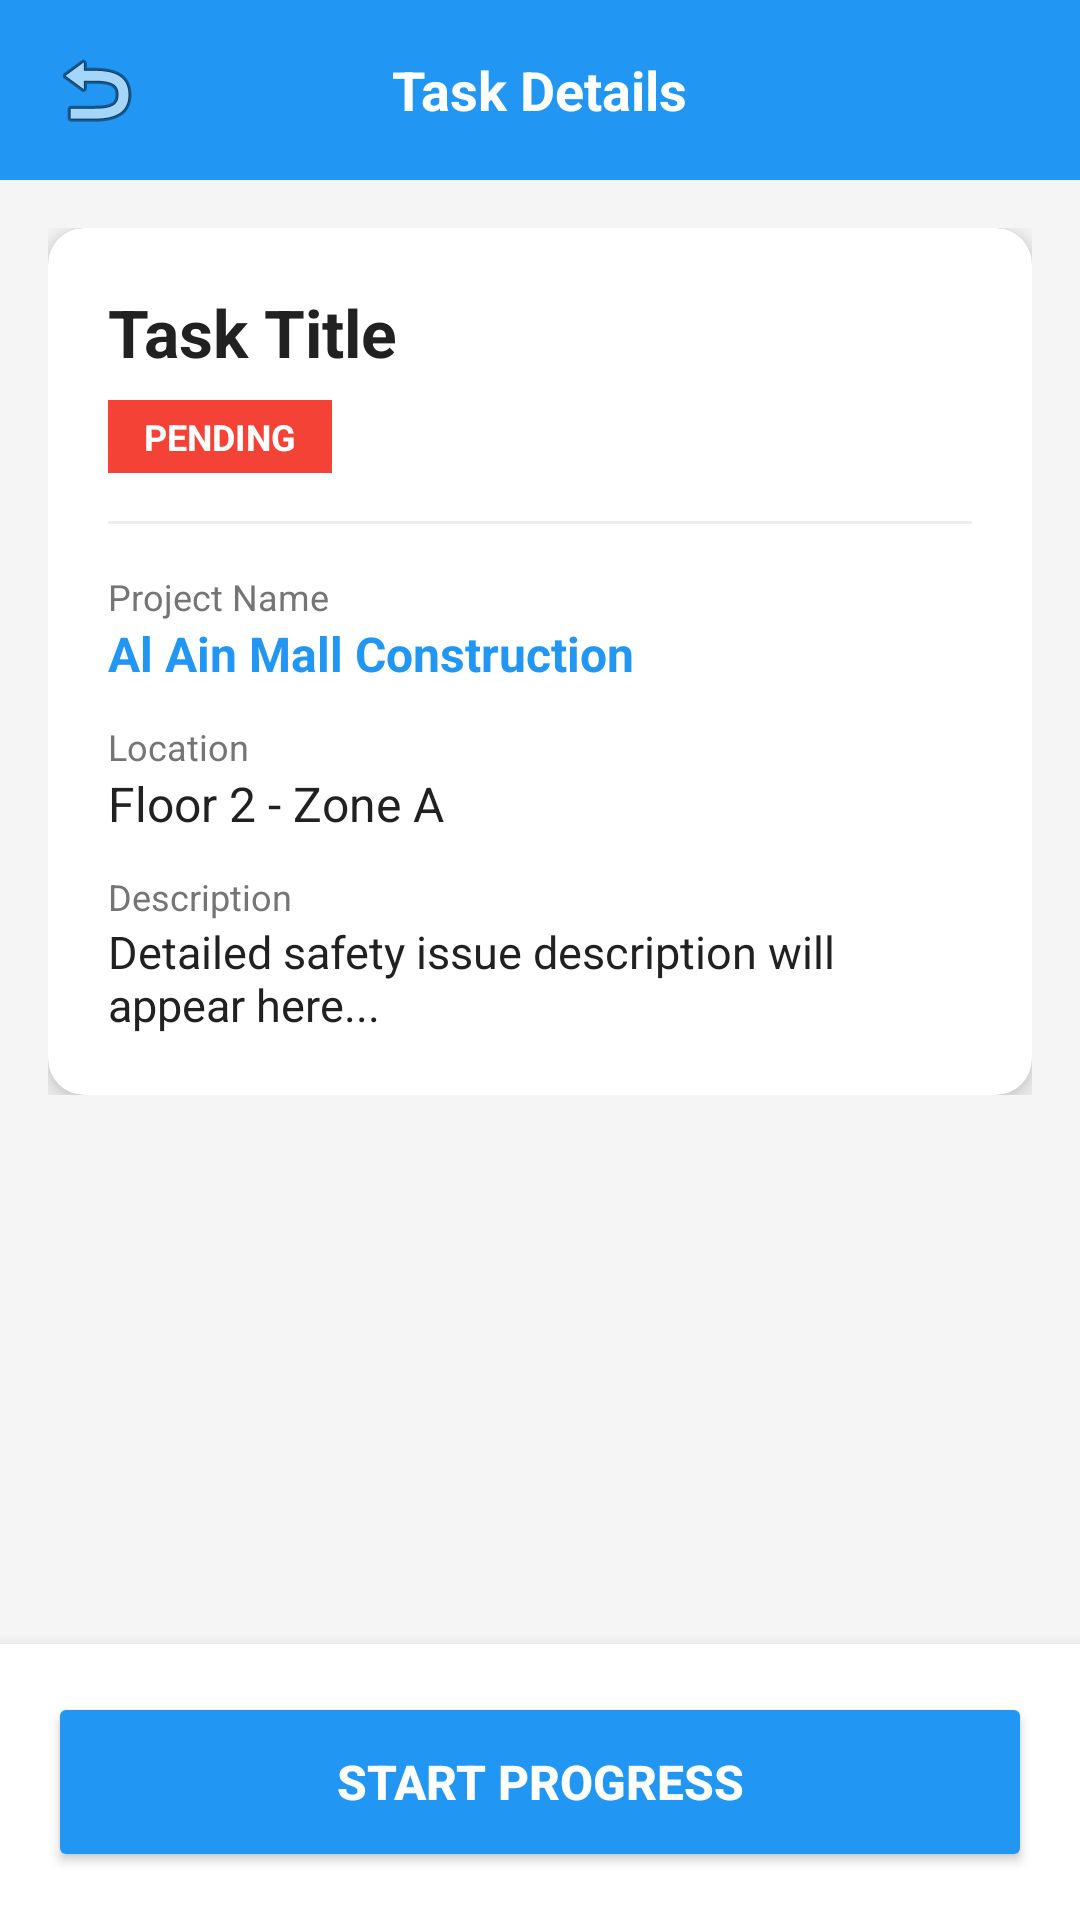

Icons on this 1080px×1920px Android screen, each with the point to tap as [x,y]:
Back: [97,90]
